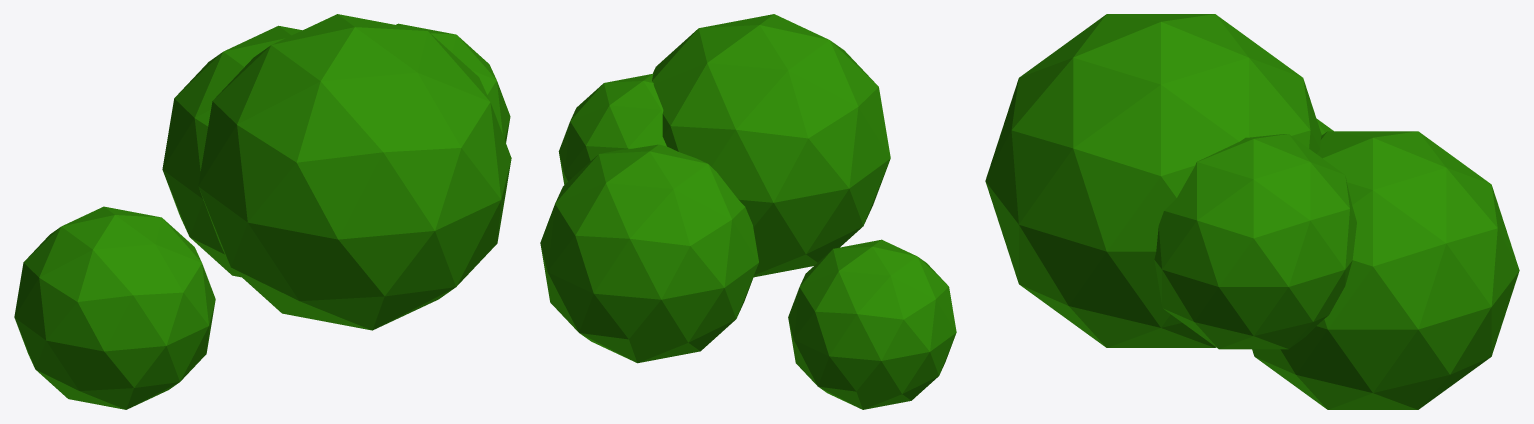
File: roomScene.gltf
3 renders of one model, left to right at view 1: azimuth 30°, elevation 25°; view 2: azimuth 150°, elevation 25°; view 3: azimuth 270°, elevation 25°, orthographic. The views are drawn at different scales.
Visible parts, largest first — view 1: Icosphere.003; view 2: Icosphere.003; view 3: Icosphere.003.
Boxes of the visible parts, bbox=[...] form: Icosphere.003: bbox=[14, 14, 511, 409]; Icosphere.003: bbox=[540, 14, 956, 409]; Icosphere.003: bbox=[985, 14, 1519, 409].
Size of the model in its own units: 11.82 by 9.13 by 10.98.
